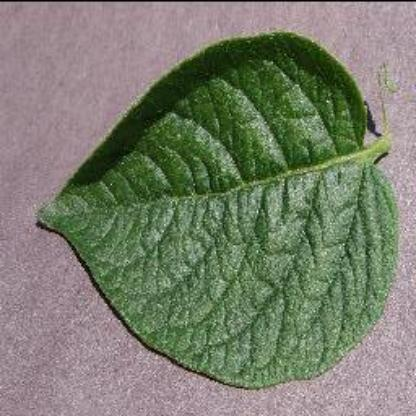Healthy-plant: (27, 29, 414, 392)
